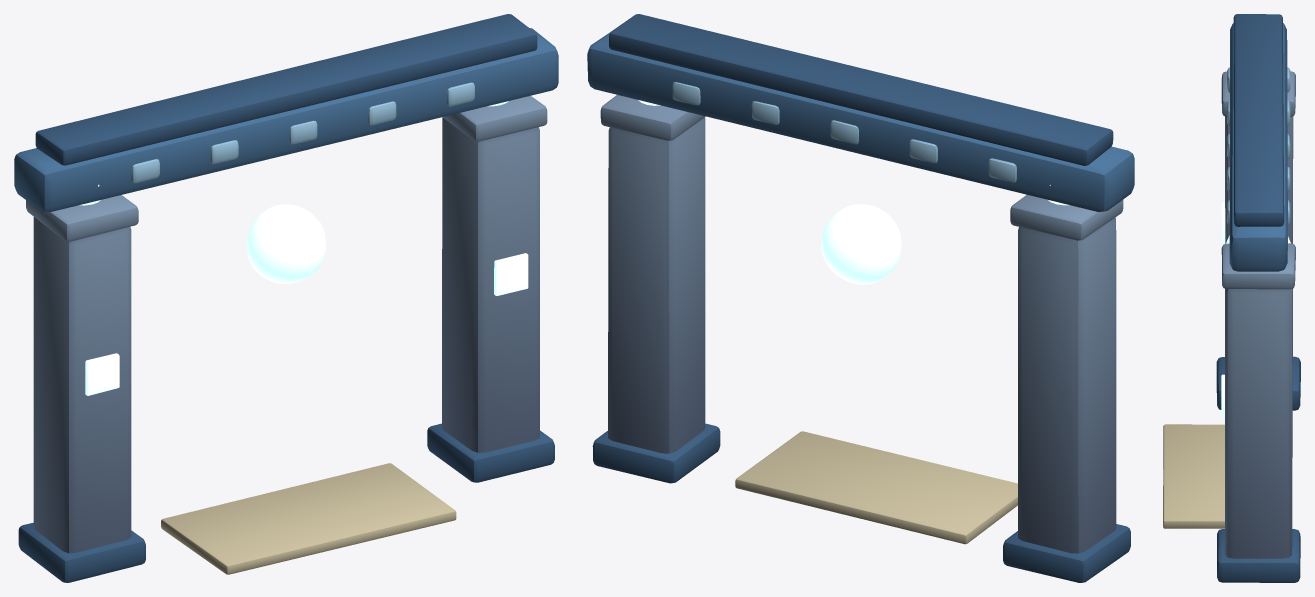
3 views of the same model, side by side, from view 1: azimuth 30°, elevation 25°; view 2: azimuth 150°, elevation 25°; view 3: azimuth 270°, elevation 25° (orthographic). The views are drawn at different scales.
Parts seen in each view (by area): view 1: gate_c6fd871e; view 2: gate_c6fd871e; view 3: gate_c6fd871e.
Boxes of the visible parts, <box> form: gate_c6fd871e: <box>14,14,558,582</box>; gate_c6fd871e: <box>587,14,1134,582</box>; gate_c6fd871e: <box>1163,14,1300,582</box>.
Size of the model in its own units: 5.41 by 4.26 by 1.44.
